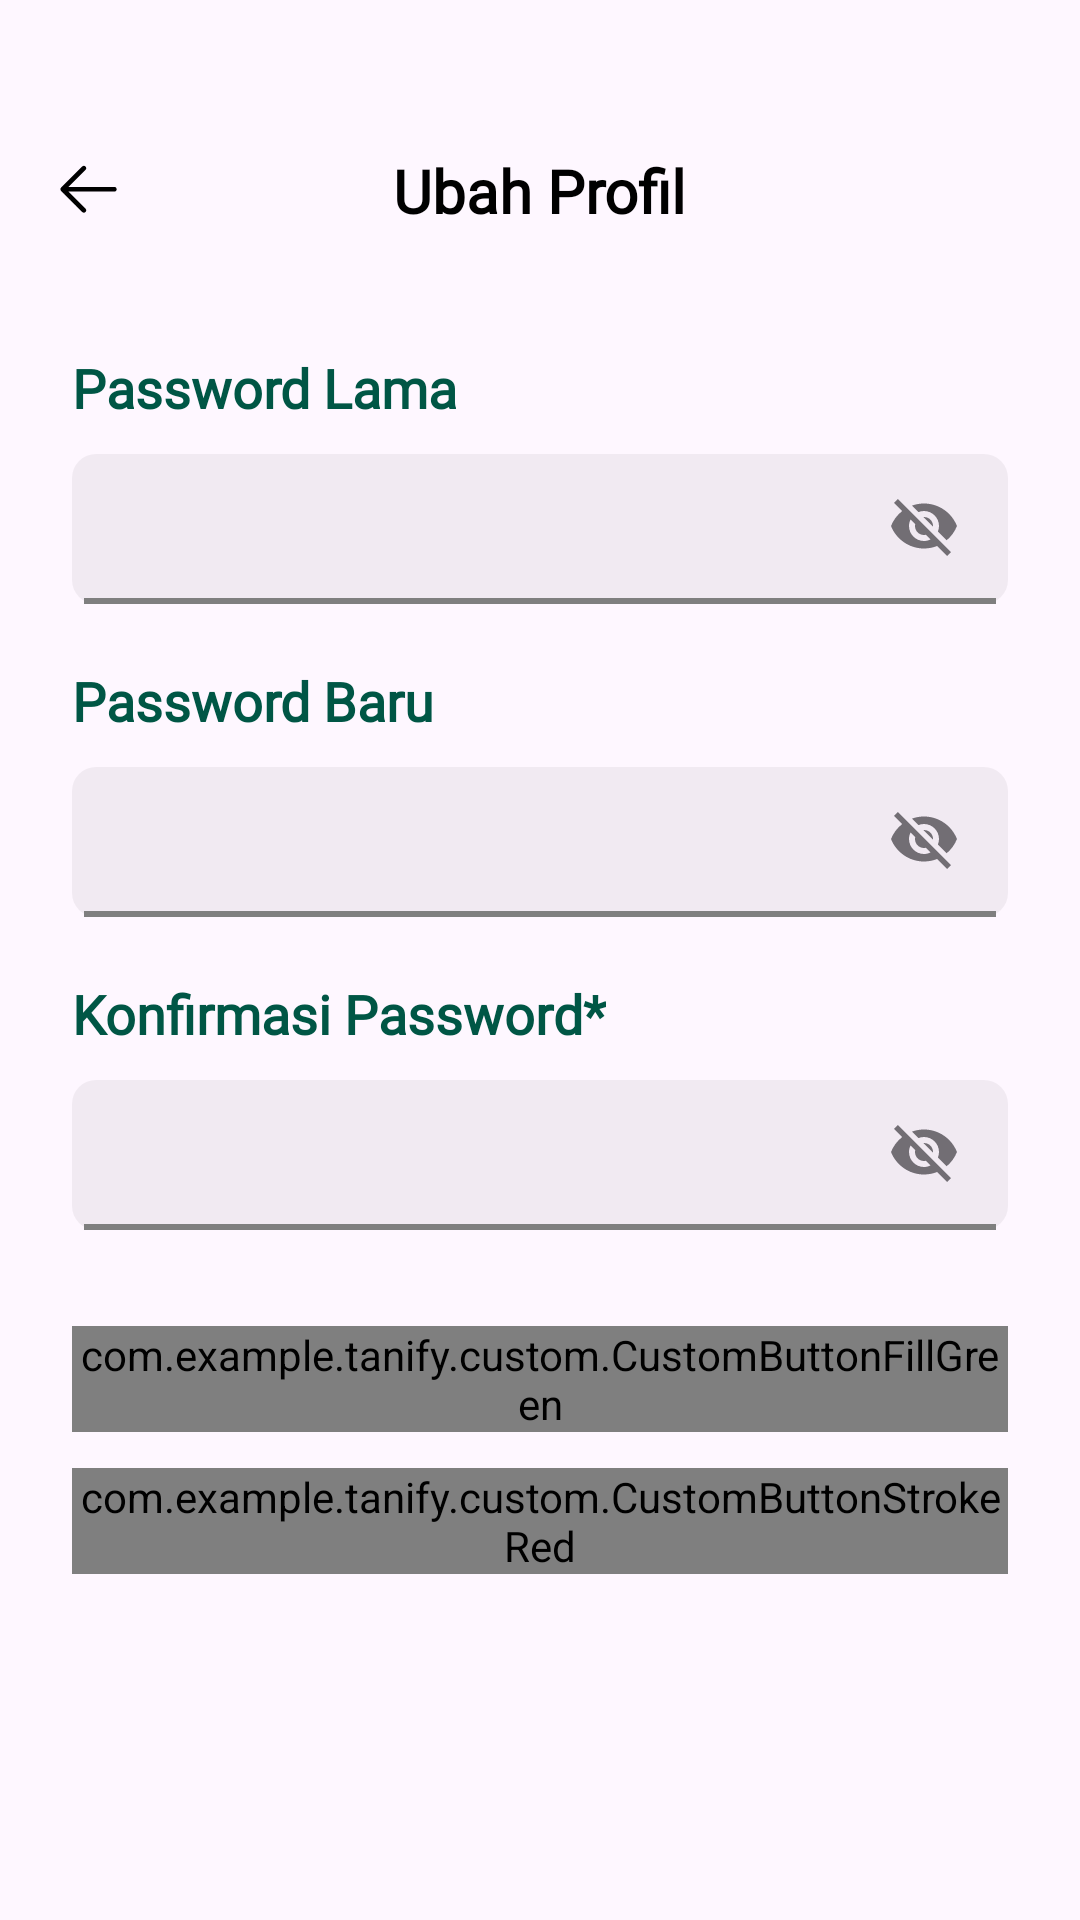

Point at icon controls on the screen. Image size 1080px×1920px, points as point (x, y).
left arrow: point (88, 189)
